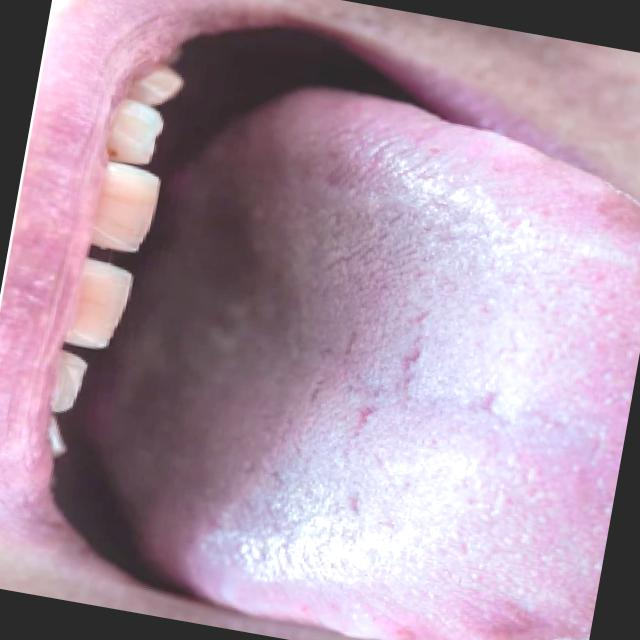No Cancer: (98, 115, 442, 518)
